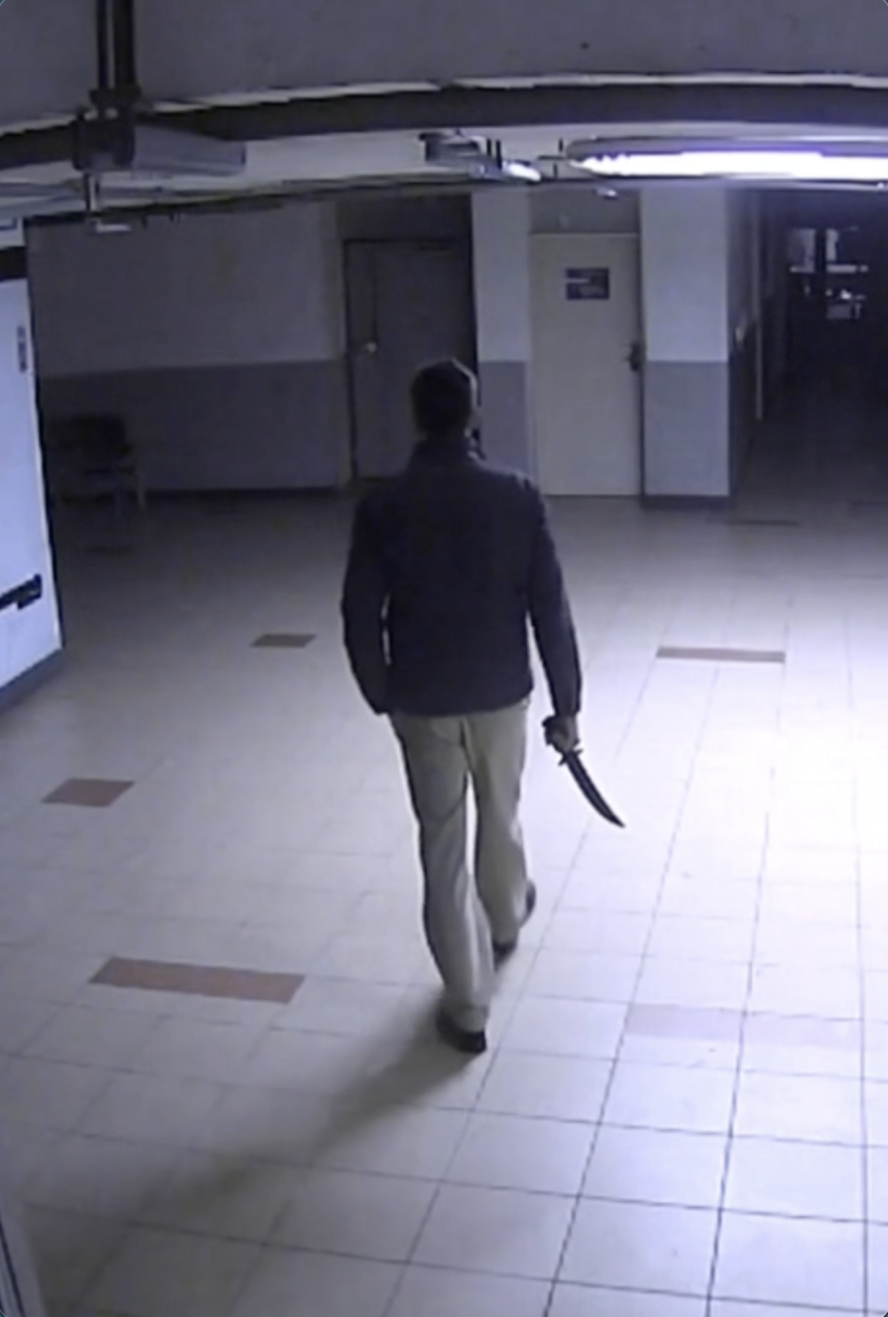Heavy Gun: (337, 357, 596, 1062)
Knife: (532, 707, 628, 829)
